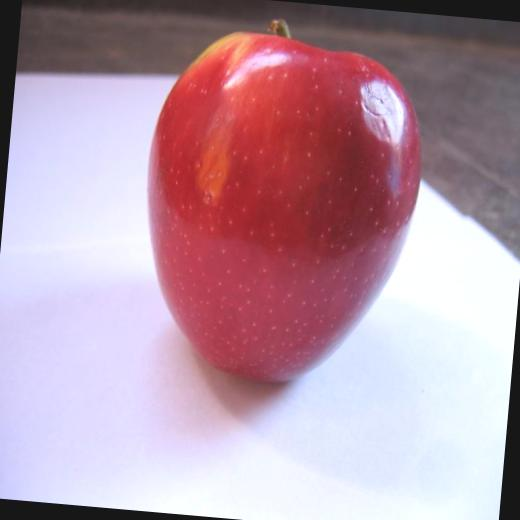Apple: (131, 2, 442, 394)
